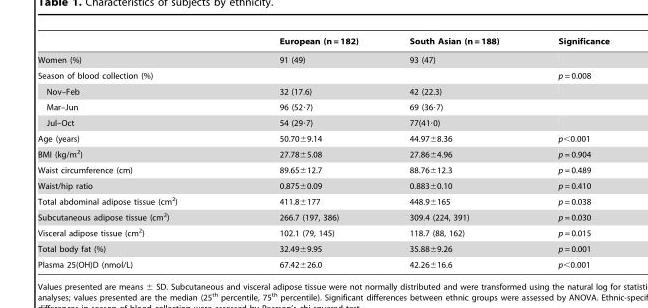table: (37, 36, 608, 268)
table column: (37, 36, 227, 268), (227, 36, 383, 268), (383, 36, 528, 268), (528, 36, 608, 268)
table column header: (37, 36, 608, 50)
table row: (37, 50, 608, 67), (37, 67, 608, 83), (37, 83, 608, 99), (37, 114, 608, 130), (37, 145, 608, 161), (37, 161, 608, 177), (37, 192, 608, 208), (37, 208, 608, 224), (37, 224, 608, 240), (37, 240, 608, 256), (37, 99, 608, 114), (37, 130, 608, 145), (37, 177, 608, 192), (37, 36, 608, 50), (37, 256, 608, 268)
